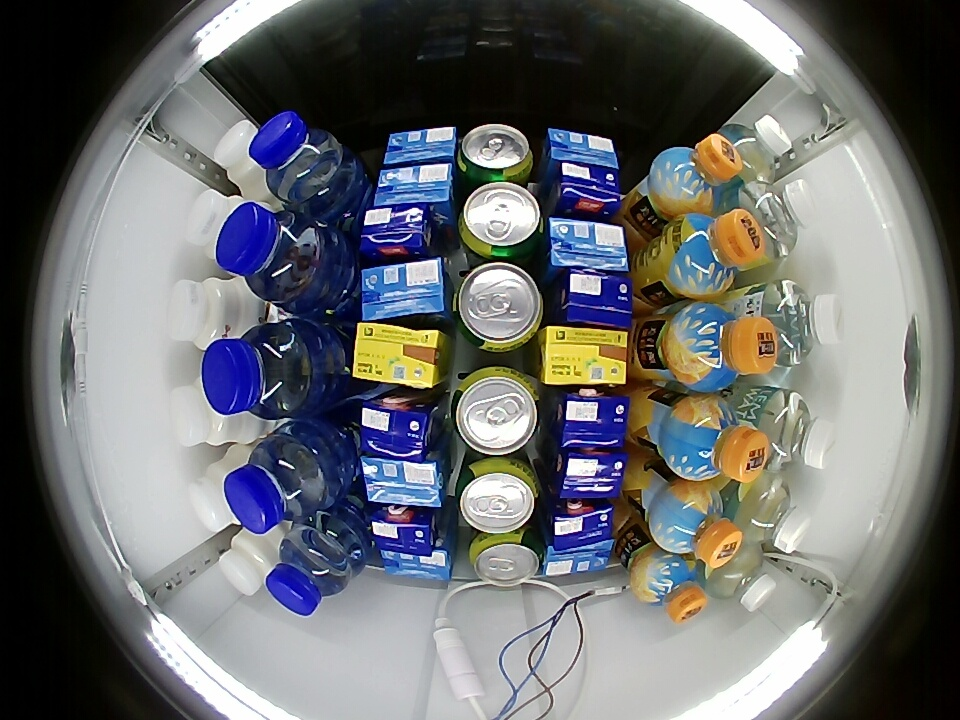bingqilinniunai: (357, 395, 442, 459), (551, 269, 633, 330), (551, 390, 630, 449), (549, 445, 628, 500), (357, 204, 433, 259), (368, 505, 445, 555), (551, 164, 623, 217), (544, 500, 615, 552)
guolicheng: (668, 302, 779, 392), (663, 394, 770, 483), (664, 209, 765, 300), (649, 482, 743, 568), (650, 133, 743, 217), (631, 549, 707, 623)
maidong: (216, 203, 327, 302), (223, 433, 329, 534), (202, 324, 313, 419), (248, 111, 344, 205), (266, 530, 351, 617)
qinningshui: (758, 279, 847, 367), (753, 389, 838, 469), (737, 176, 815, 258), (698, 534, 776, 614), (714, 115, 793, 190), (735, 476, 811, 553)
weitanai: (359, 257, 452, 322), (545, 216, 631, 275), (358, 453, 449, 508), (372, 162, 456, 213), (543, 128, 621, 176), (383, 126, 459, 169), (376, 540, 454, 581), (540, 536, 615, 575)
weitaningmeng: (352, 322, 450, 390), (539, 325, 631, 387)
xuebi2: (455, 262, 544, 352), (452, 367, 541, 455), (458, 182, 544, 263), (456, 457, 539, 533), (457, 124, 534, 184), (469, 527, 543, 587)
yingyangkuaixian: (166, 277, 254, 354), (167, 374, 260, 446), (187, 443, 253, 533), (213, 118, 274, 204), (217, 525, 286, 596), (185, 187, 246, 262)
